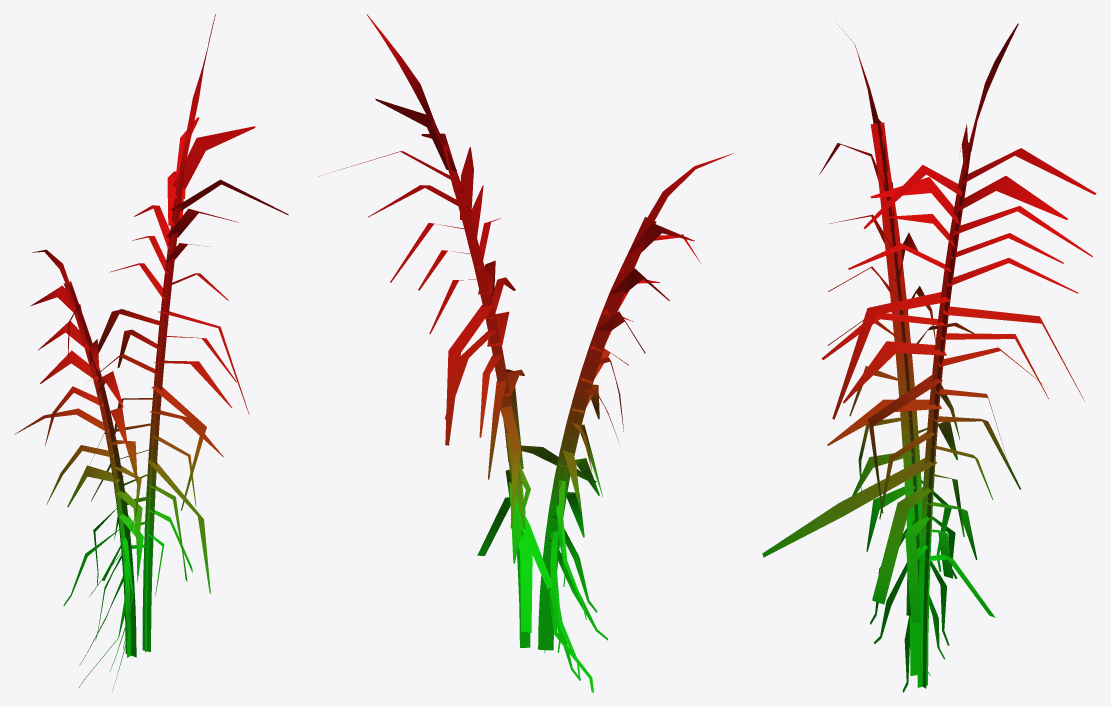
File: Giant Reed_LOD2_Var3_sjllX.fbx
3 views of the same model, side by side, from view 1: azimuth 30°, elevation 25°; view 2: azimuth 150°, elevation 25°; view 3: azimuth 270°, elevation 25° (orthographic). The views are drawn at different scales.
Visible parts, largest first — view 1: _4115_Var3_LOD002; view 2: _4115_Var3_LOD002; view 3: _4115_Var3_LOD002.
Part boxes in pixels (x1=…): _4115_Var3_LOD002: x1=14, y1=14, x2=288, y2=691; _4115_Var3_LOD002: x1=319, y1=14, x2=733, y2=692; _4115_Var3_LOD002: x1=762, y1=21, x2=1096, y2=692.
Size of the model in its own units: 99.13 by 209 by 83.13.
